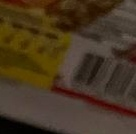1d: (72, 50, 136, 99)
